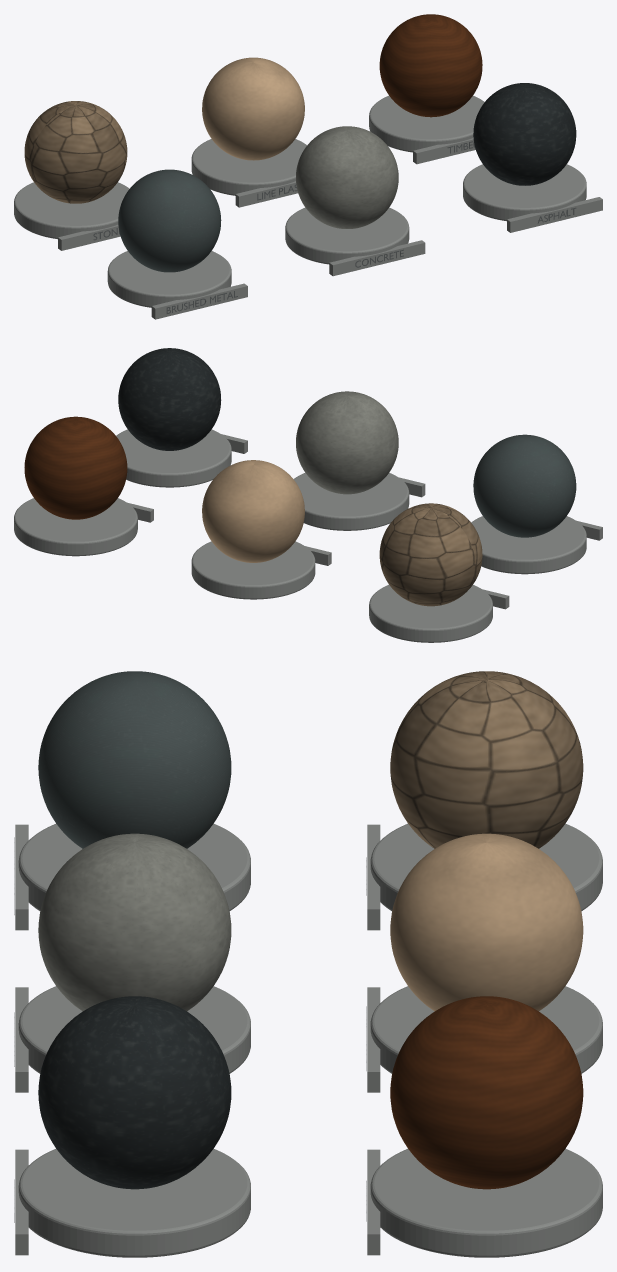
The model's file is cents-material-identity-study.glb.
3 renders of one model, top to bottom at view 1: azimuth 30°, elevation 25°; view 2: azimuth 150°, elevation 25°; view 3: azimuth 270°, elevation 25°, orthographic. The views are drawn at different scales.
Visible parts, largest first — view 1: Identical sample sphere · LIME PLASTER, Identical sample sphere · TIMBER, Identical sample sphere · BRUSHED METAL, Identical sample sphere · ASPHALT, Identical sample sphere · STONE, Identical sample sphere · CONCRETE, Neutral plinth · BRUSHED METAL, Neutral plinth · CONCRETE, Neutral plinth · ASPHALT, Neutral plinth · STONE, Neutral plinth · LIME PLASTER, Neutral plinth · TIMBER (+6 smaller); view 2: Identical sample sphere · STONE, Identical sample sphere · TIMBER, Identical sample sphere · CONCRETE, Identical sample sphere · BRUSHED METAL, Identical sample sphere · ASPHALT, Identical sample sphere · LIME PLASTER, Neutral plinth · LIME PLASTER, Neutral plinth · STONE, Neutral plinth · TIMBER, Neutral plinth · BRUSHED METAL, Neutral plinth · CONCRETE, Neutral plinth · ASPHALT; view 3: Identical sample sphere · ASPHALT, Identical sample sphere · TIMBER, Identical sample sphere · LIME PLASTER, Identical sample sphere · CONCRETE, Identical sample sphere · BRUSHED METAL, Identical sample sphere · STONE, Neutral plinth · TIMBER, Neutral plinth · ASPHALT, Neutral plinth · BRUSHED METAL, Neutral plinth · LIME PLASTER, Neutral plinth · STONE, Neutral plinth · CONCRETE (+6 smaller).
Part boxes in pixels (<box>): Identical sample sphere · LIME PLASTER: <box>202,57,304,160</box>; Identical sample sphere · TIMBER: <box>379,14,482,117</box>; Identical sample sphere · BRUSHED METAL: <box>118,169,221,272</box>; Identical sample sphere · ASPHALT: <box>473,83,576,185</box>; Identical sample sphere · STONE: <box>24,101,127,203</box>; Identical sample sphere · CONCRETE: <box>296,126,398,228</box>; Neutral plinth · BRUSHED METAL: <box>107,251,231,307</box>; Neutral plinth · CONCRETE: <box>285,207,409,264</box>; Neutral plinth · ASPHALT: <box>463,164,586,221</box>; Neutral plinth · STONE: <box>14,182,129,239</box>; Neutral plinth · LIME PLASTER: <box>191,139,306,195</box>; Neutral plinth · TIMBER: <box>369,95,484,152</box>; Identical sample sphere · STONE: <box>379,503,482,606</box>; Identical sample sphere · TIMBER: <box>24,416,127,519</box>; Identical sample sphere · CONCRETE: <box>296,391,398,494</box>; Identical sample sphere · BRUSHED METAL: <box>473,434,576,537</box>; Identical sample sphere · ASPHALT: <box>118,348,221,450</box>; Identical sample sphere · LIME PLASTER: <box>202,460,304,562</box>; Neutral plinth · LIME PLASTER: <box>191,541,315,599</box>; Neutral plinth · STONE: <box>369,585,492,642</box>; Neutral plinth · TIMBER: <box>14,498,137,556</box>; Neutral plinth · BRUSHED METAL: <box>471,516,586,574</box>; Neutral plinth · CONCRETE: <box>293,472,409,530</box>; Neutral plinth · ASPHALT: <box>116,429,231,487</box>; Identical sample sphere · ASPHALT: <box>38,996,231,1189</box>; Identical sample sphere · TIMBER: <box>390,996,583,1189</box>; Identical sample sphere · LIME PLASTER: <box>390,833,583,1011</box>; Identical sample sphere · CONCRETE: <box>38,833,231,1011</box>; Identical sample sphere · BRUSHED METAL: <box>38,671,231,848</box>; Identical sample sphere · STONE: <box>390,671,583,848</box>; Neutral plinth · TIMBER: <box>370,1148,602,1257</box>; Neutral plinth · ASPHALT: <box>18,1149,250,1257</box>; Neutral plinth · BRUSHED METAL: <box>18,823,250,910</box>; Neutral plinth · LIME PLASTER: <box>370,986,602,1073</box>; Neutral plinth · STONE: <box>370,823,602,911</box>; Neutral plinth · CONCRETE: <box>18,986,250,1073</box>.
Bounding box in the file's own units: 12.24 × 2.8 × 7.2.
9 materials, 6 textured.
